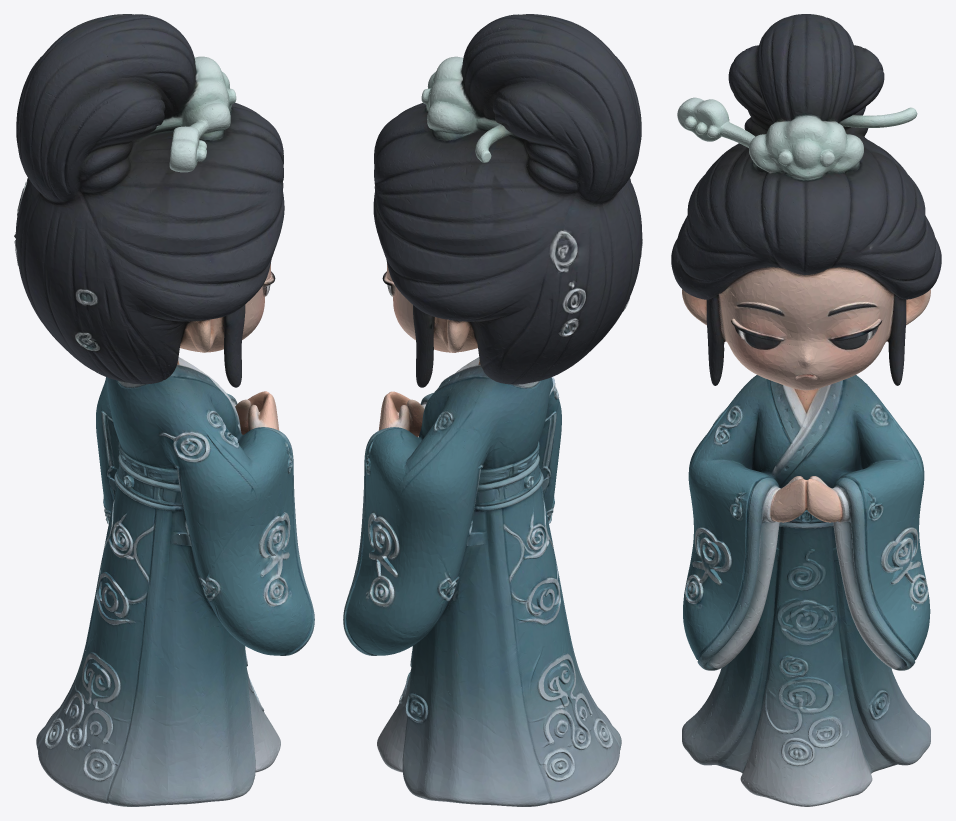
3 views of the same model, side by side, from view 1: azimuth 30°, elevation 25°; view 2: azimuth 150°, elevation 25°; view 3: azimuth 270°, elevation 25° (orthographic). The views are drawn at different scales.
Visible parts, largest first — view 1: tripo_node_71813be6-b402-42fe-94a2-6850dba7f3bb; view 2: tripo_node_71813be6-b402-42fe-94a2-6850dba7f3bb; view 3: tripo_node_71813be6-b402-42fe-94a2-6850dba7f3bb.
Part boxes in pixels (left/top/right/bottom): tripo_node_71813be6-b402-42fe-94a2-6850dba7f3bb: left=14, top=14, right=314, bottom=806; tripo_node_71813be6-b402-42fe-94a2-6850dba7f3bb: left=343, top=14, right=642, bottom=806; tripo_node_71813be6-b402-42fe-94a2-6850dba7f3bb: left=671, top=14, right=941, bottom=806.
Size of the model in its own units: 0.3416 by 1 by 0.3378.
Materials: 1 (1 with a texture image).
